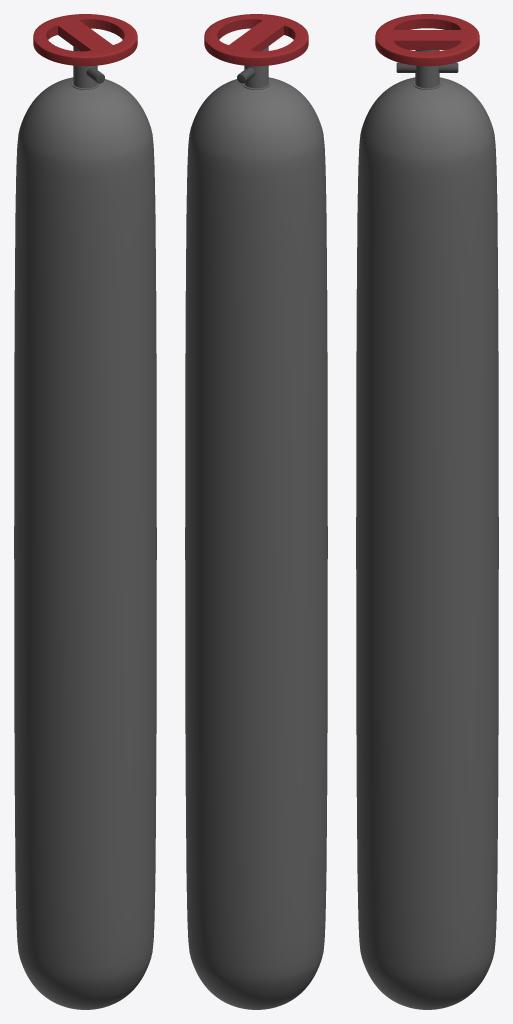
Rendered from Tüp.fbx.
3 views of the same model, side by side, from view 1: azimuth 30°, elevation 25°; view 2: azimuth 150°, elevation 25°; view 3: azimuth 270°, elevation 25° (orthographic).
Visible parts, largest first — view 1: Sphere; view 2: Sphere; view 3: Sphere.
Part boxes in pixels (box(x1,y1,x2,y2)): Sphere: box(14, 14, 156, 1009); Sphere: box(185, 14, 327, 1009); Sphere: box(356, 14, 498, 1009).
Bounding box in the file's own units: 1.37 × 10.28 × 1.37.
